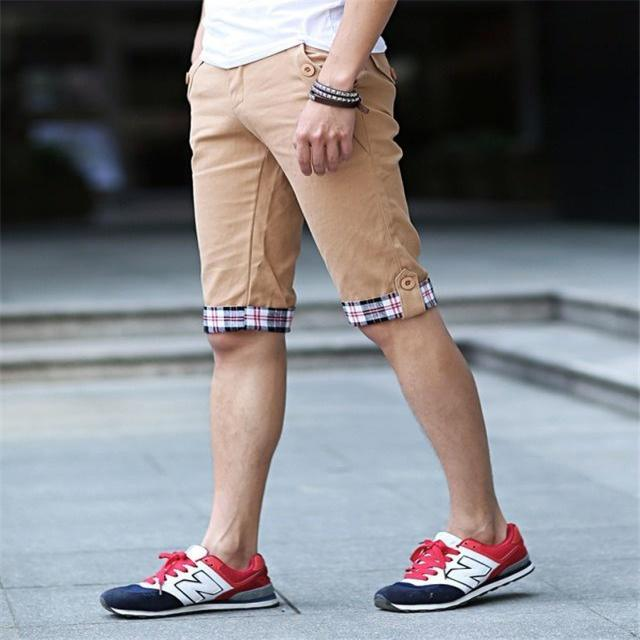shorts: (162, 53, 494, 369)
